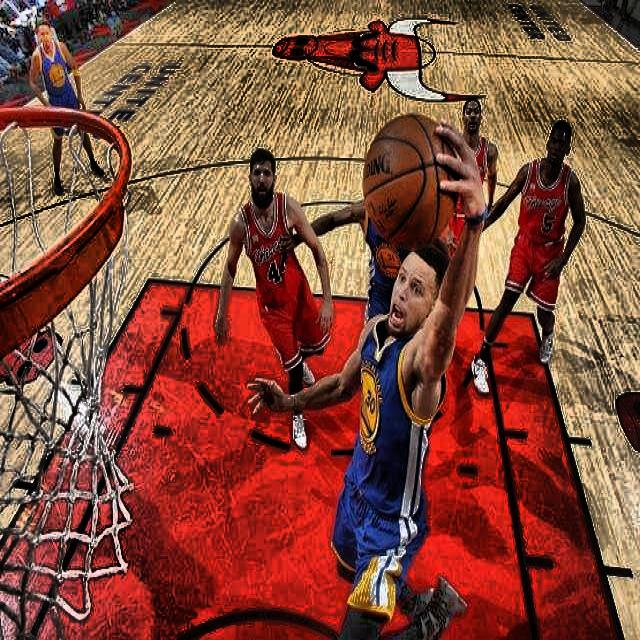board: (362, 115, 460, 249)
rim: (0, 105, 134, 636)
